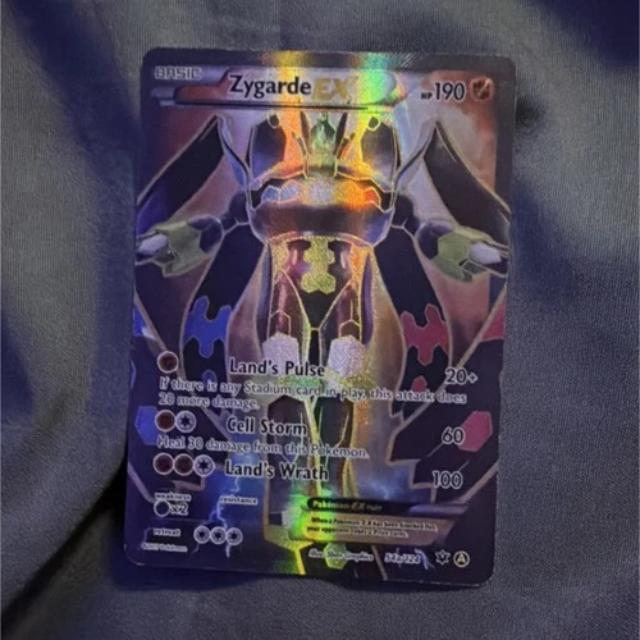Card: (114, 41, 521, 593)
Name: (223, 67, 368, 109)
